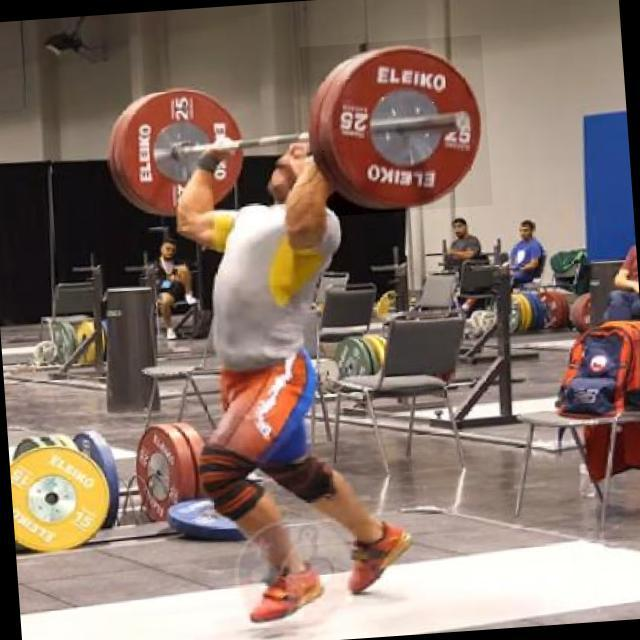barbell: (300, 36, 493, 219)
